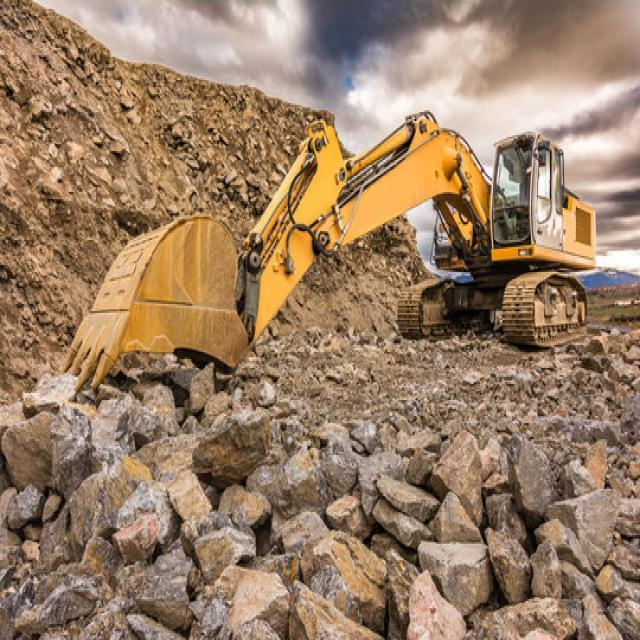C_E: (55, 108, 591, 410)
